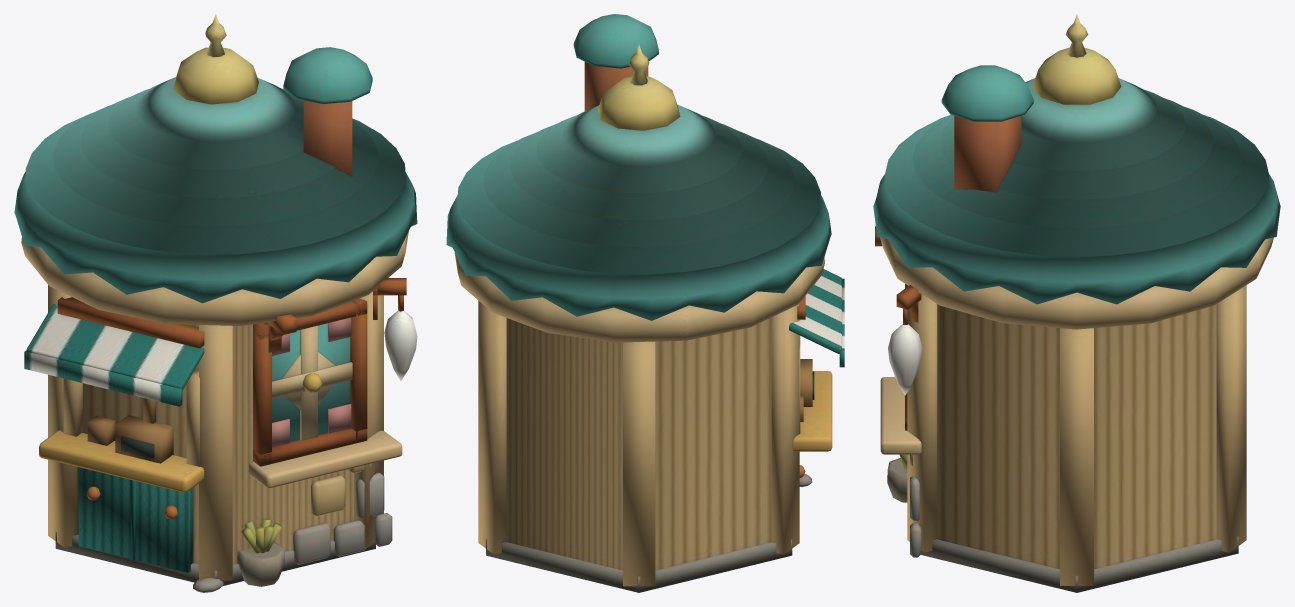
File: kiosk_2_mid.glb
3 views of the same model, side by side, from view 1: azimuth 30°, elevation 25°; view 2: azimuth 150°, elevation 25°; view 3: azimuth 270°, elevation 25° (orthographic). The views are drawn at different scales.
Visible parts, largest first — view 1: kiosk_2; view 2: kiosk_2; view 3: kiosk_2.
Boxes of the visible parts, <box> form: kiosk_2: <box>14,14,417,592</box>; kiosk_2: <box>446,14,844,592</box>; kiosk_2: <box>873,14,1280,592</box>.
Size of the model in its own units: 1.17 by 1.47 by 1.08.
1 material, 1 textured.
